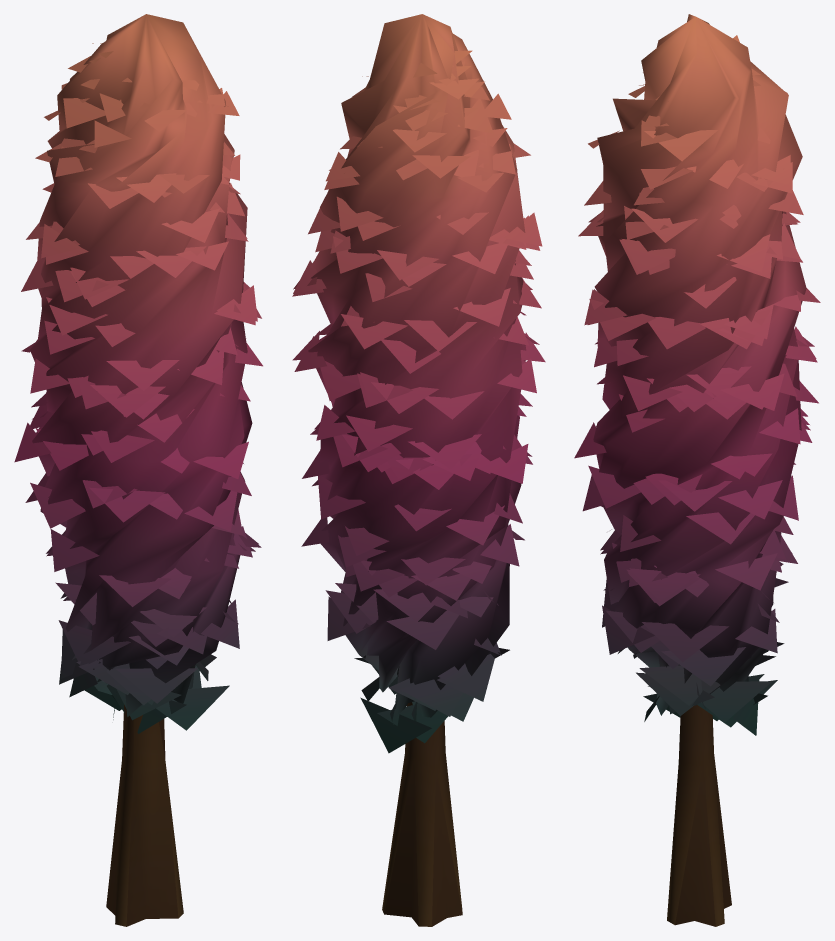
File: Tree_5L.fbx
3 renders of one model, left to right at view 1: azimuth 30°, elevation 25°; view 2: azimuth 150°, elevation 25°; view 3: azimuth 270°, elevation 25°, orthographic.
Visible parts, largest first — view 1: Tree_5L; view 2: Tree_5L; view 3: Tree_5L.
Part boxes in pixels (x1,y1,x2,y2): Tree_5L: (14,14,262,926); Tree_5L: (292,14,545,926); Tree_5L: (574,14,820,926).
Bounding box in the file's own units: 436 × 1692 × 423.
